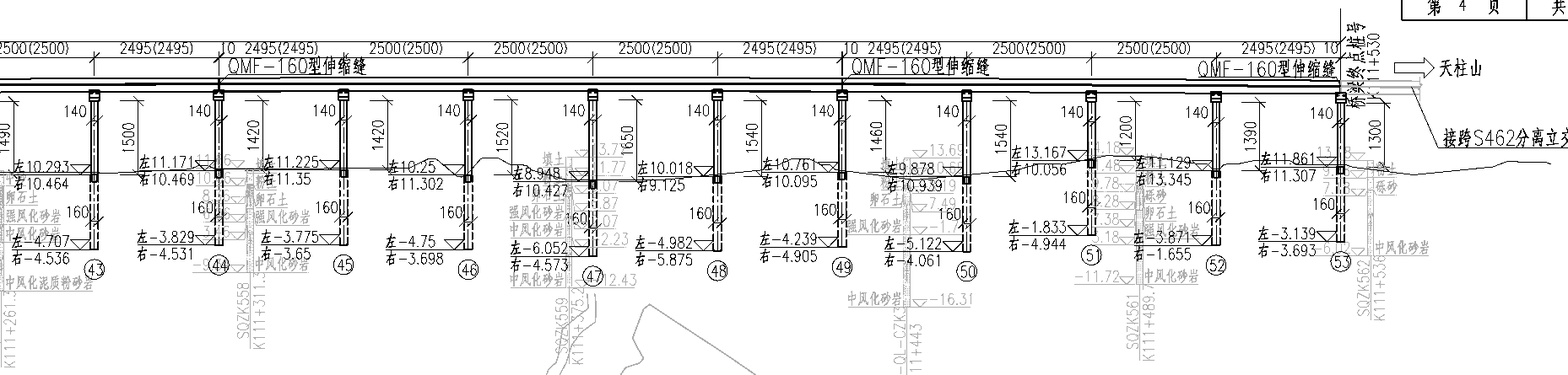C: (19, 83, 111, 286), (396, 83, 486, 287), (647, 83, 735, 287), (771, 84, 860, 283), (273, 83, 361, 279), (903, 83, 984, 287), (529, 84, 609, 290), (151, 84, 235, 279), (1275, 86, 1358, 276), (1033, 85, 1107, 270), (1164, 85, 1233, 279)
